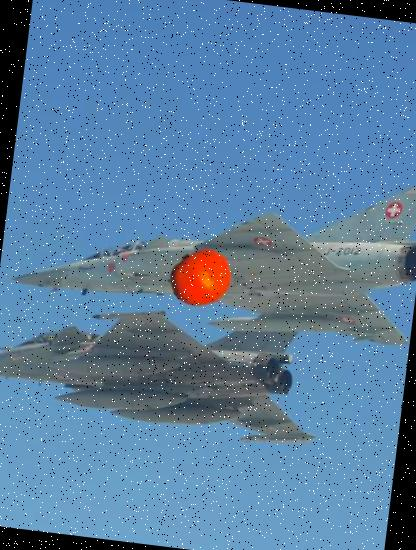Clementine: (166, 244, 236, 314)
